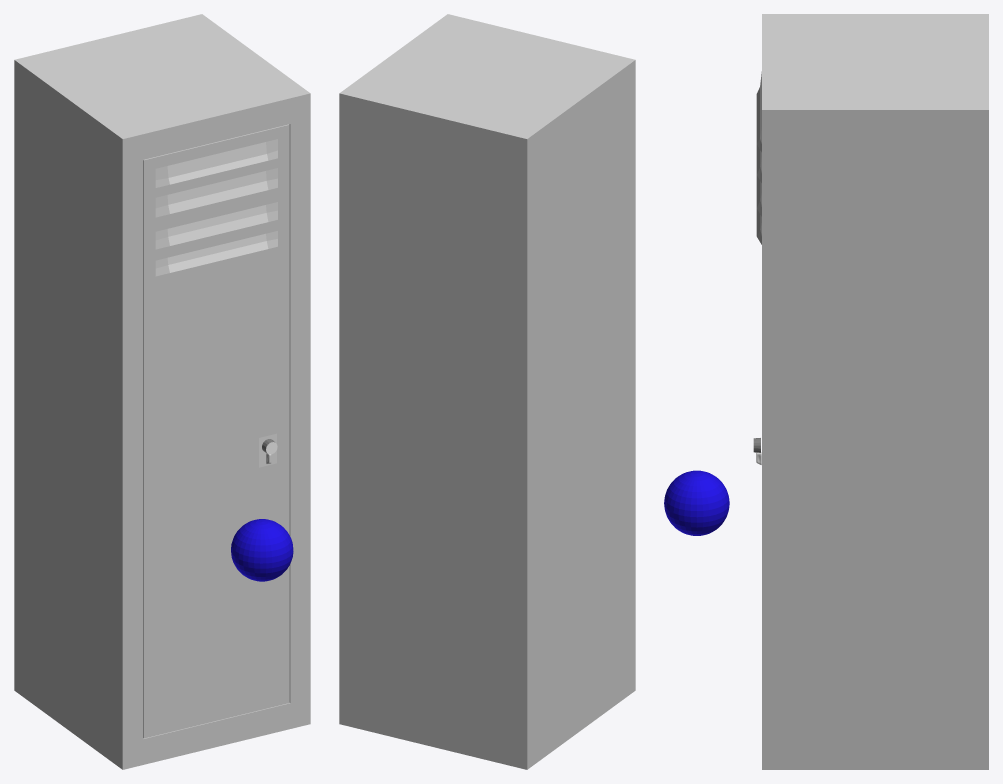
Rendered from gymlocker.fbx.
The picture shows the model from 3 angles, left to right: view 1: azimuth 30°, elevation 25°; view 2: azimuth 150°, elevation 25°; view 3: azimuth 270°, elevation 25°; orthographic projection. The views are drawn at different scales.
Visible parts, largest first — view 1: Cube, Cube.001, Sphere; view 2: Cube; view 3: Cube, Sphere, Cube.001.
Boxes of the visible parts, x1,y1,x2,y2 form: Cube: (14, 14, 310, 769); Cube.001: (143, 124, 289, 738); Sphere: (231, 519, 293, 581); Cube: (339, 14, 635, 769); Cube: (762, 14, 988, 769); Sphere: (664, 470, 729, 535); Cube.001: (756, 71, 761, 244).
Bounding box in the file's own units: 200 × 642 × 286.
